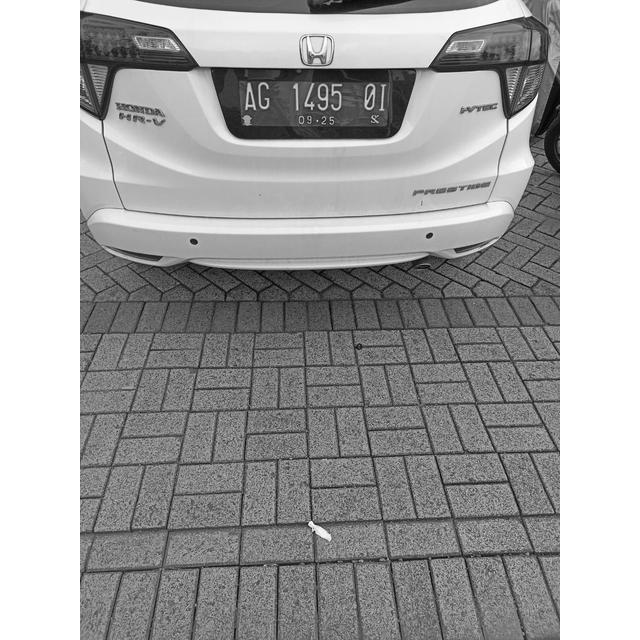license: (241, 81, 386, 125)
